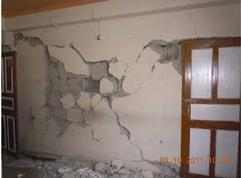spalling: (48, 55, 100, 136), (72, 43, 119, 92), (144, 40, 181, 73), (15, 33, 44, 47)
